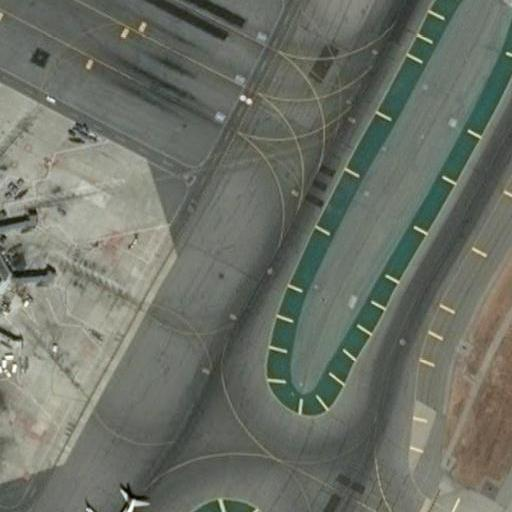Aircraft: (67, 481, 159, 512)
